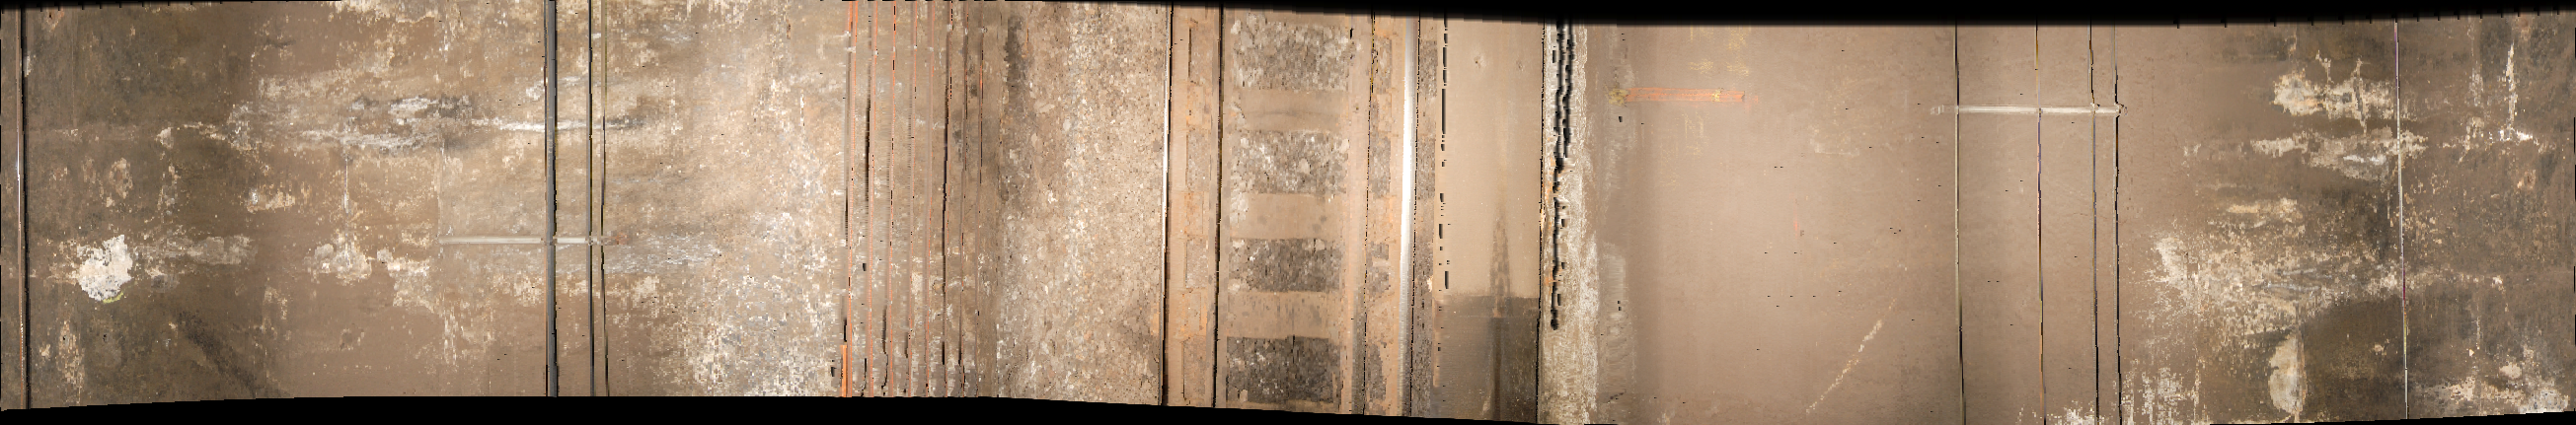pipes: (843, 7, 1014, 425), (534, 8, 626, 415), (2083, 41, 2146, 425), (2382, 18, 2418, 425), (2029, 31, 2062, 425), (1945, 33, 1978, 425), (11, 3, 39, 425)
tracks: (1168, 7, 1569, 425)
